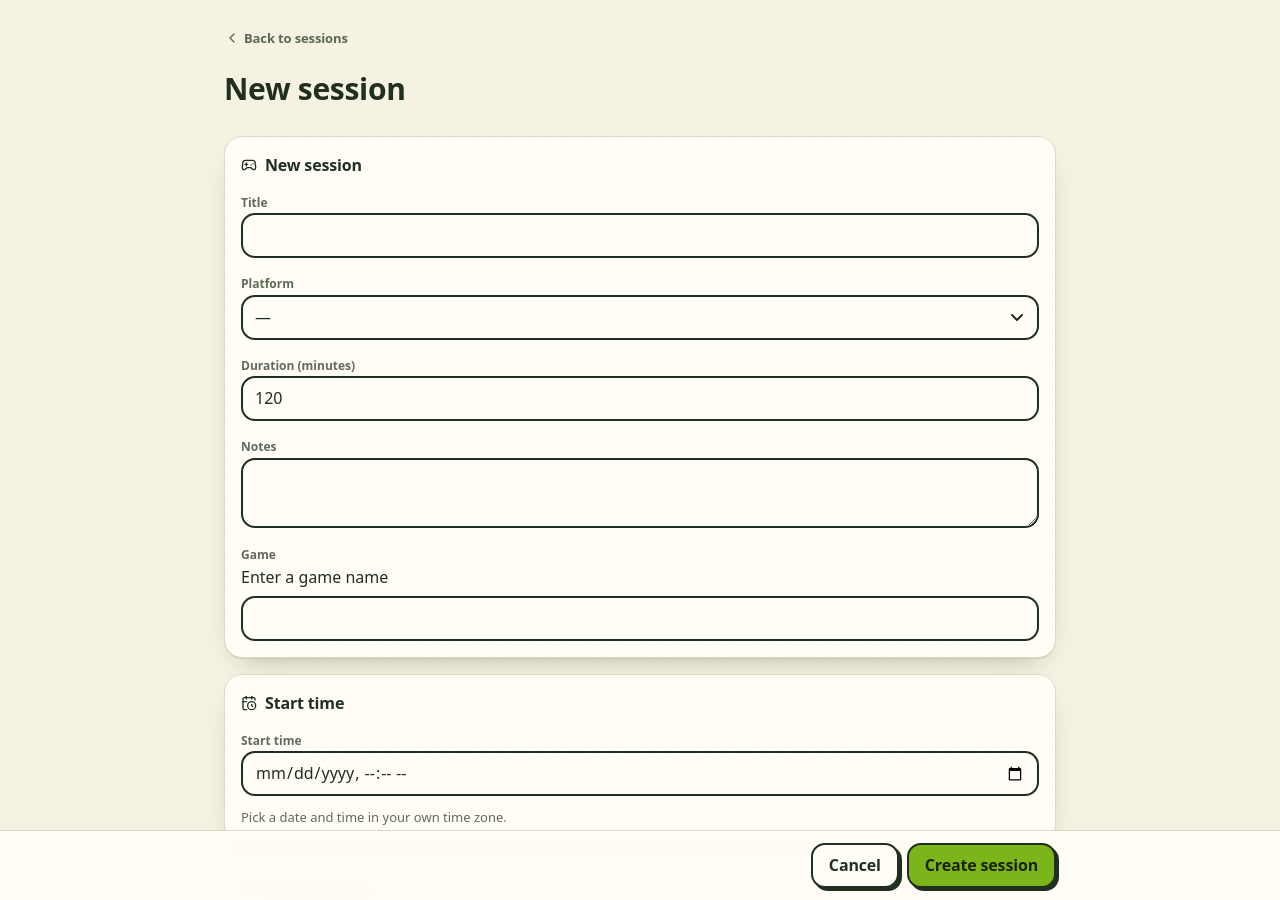
Scenario: SessionCreatePage (lovable) › renders the Steam game picker combobox and the Other platform option through i18next_H5
Select "Steam" in the dropdown labelled "Platform": (640, 317) left=241, top=295, right=1039, bottom=340
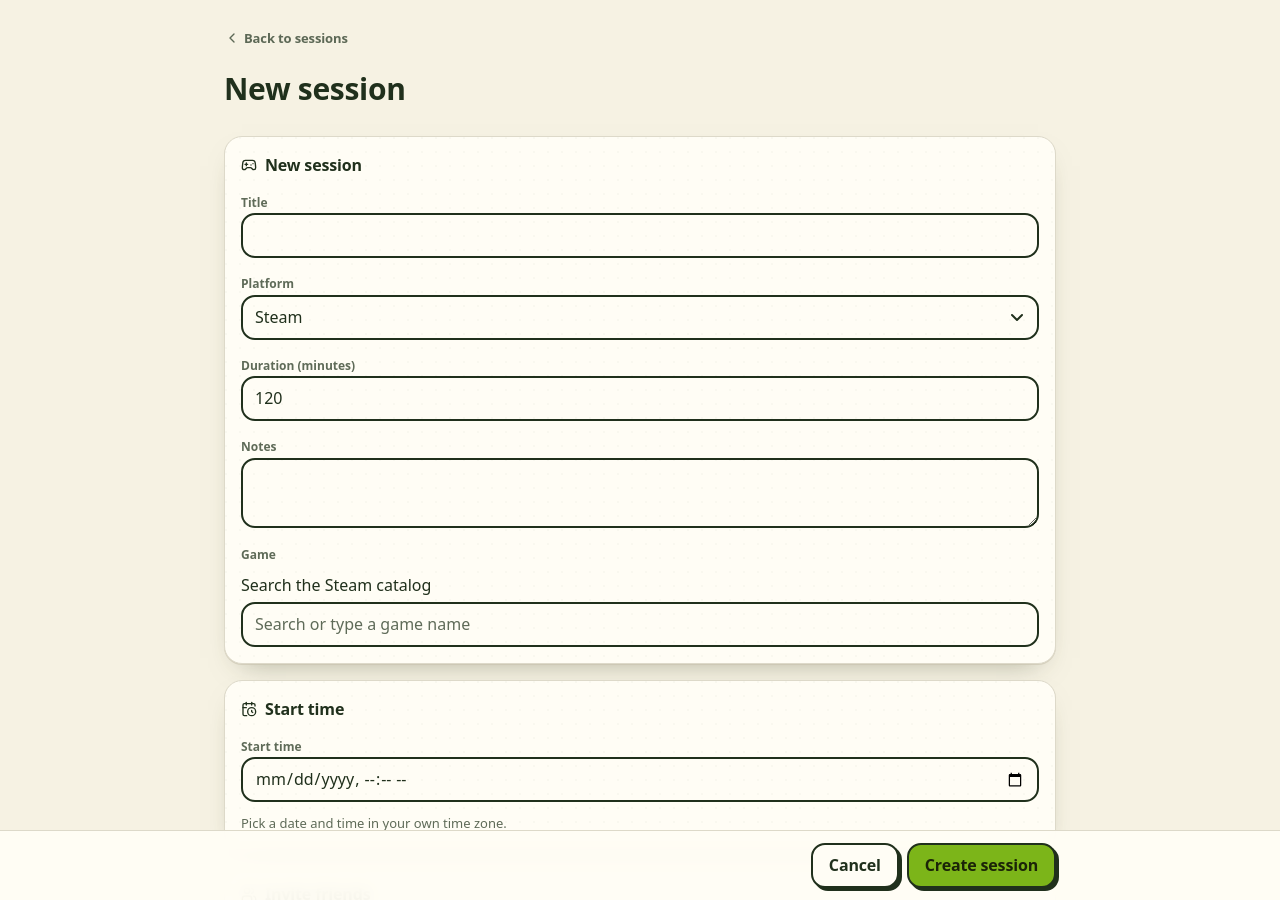
Expected: the dropdown labelled "Search the Steam catalog" is shown, left=241, top=602, right=1039, bottom=647
